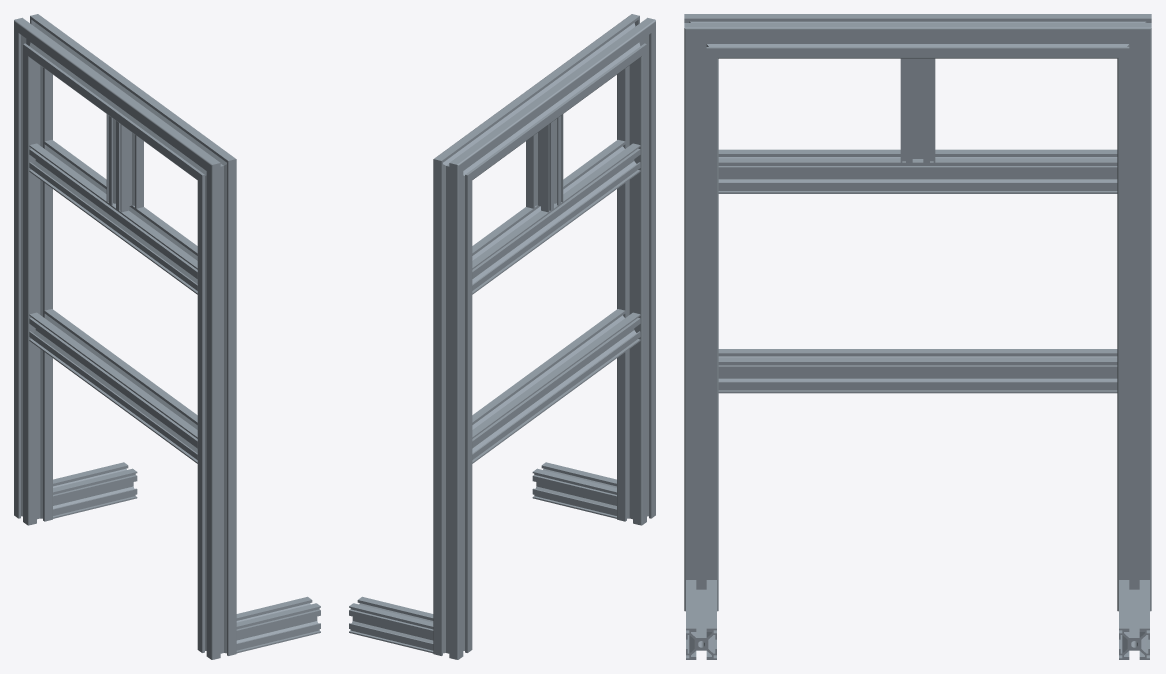
The model's file is aluminium_profile.dae.
3 views of the same model, side by side, from view 1: azimuth 30°, elevation 25°; view 2: azimuth 150°, elevation 25°; view 3: azimuth 270°, elevation 25° (orthographic). The views are drawn at different scales.
Parts seen in each view (by area): view 1: 65109afc84d06258b14cbcd0; view 2: 65109afc84d06258b14cbcd0; view 3: 65109afc84d06258b14cbcd0.
Boxes of the visible parts, x1,y1,x2,y2 form: 65109afc84d06258b14cbcd0: [14, 14, 320, 659]; 65109afc84d06258b14cbcd0: [349, 14, 655, 659]; 65109afc84d06258b14cbcd0: [684, 14, 1151, 659].
Bounding box in the file's own units: 0.195 × 0.61 × 0.84.
